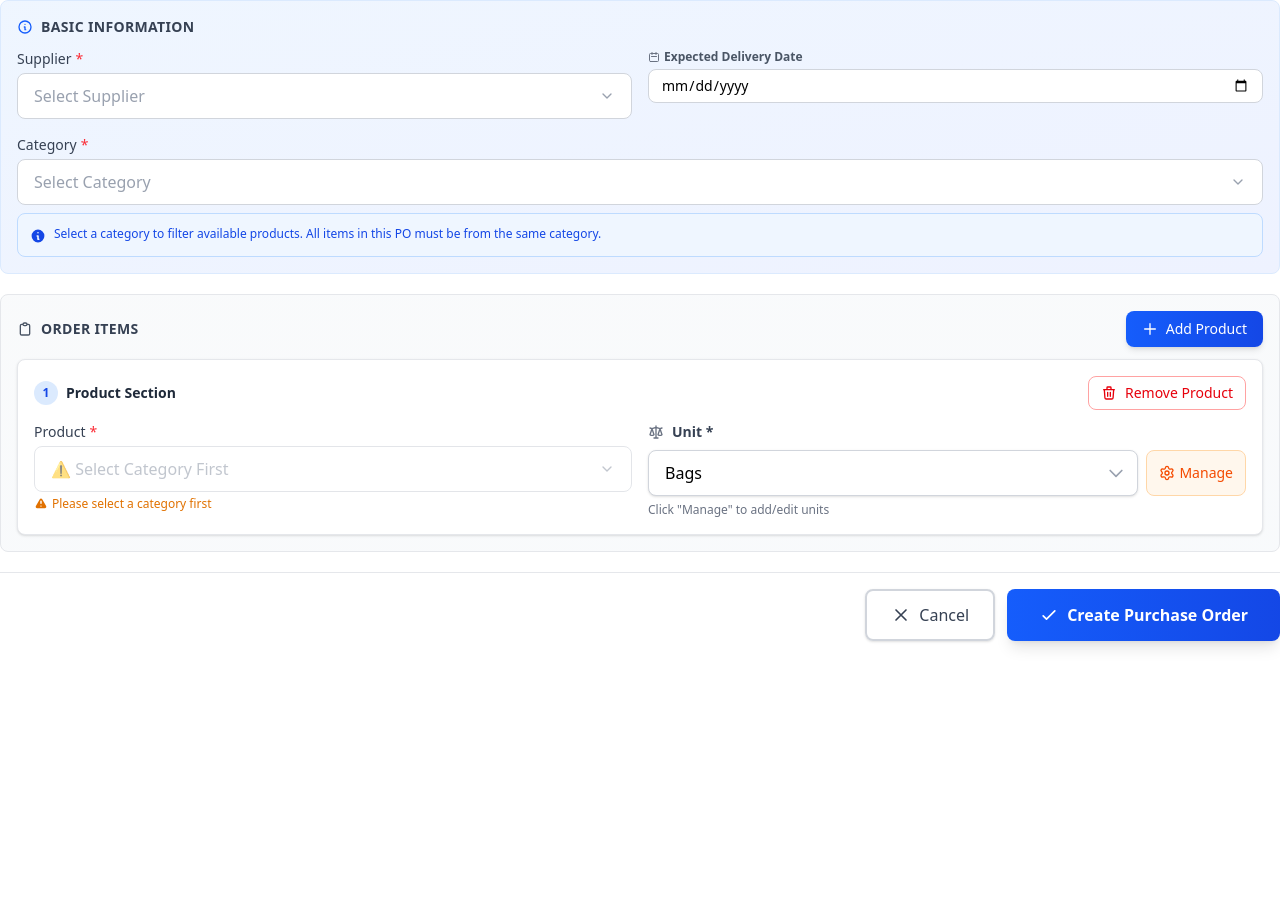
Purchase order category workflow › uses the complete master-data category form and selects the created category
This screenshot has width=1280, height=900.
Step 1. Click the button "Select Category" → (92, 182), box [17,159,1263,205]
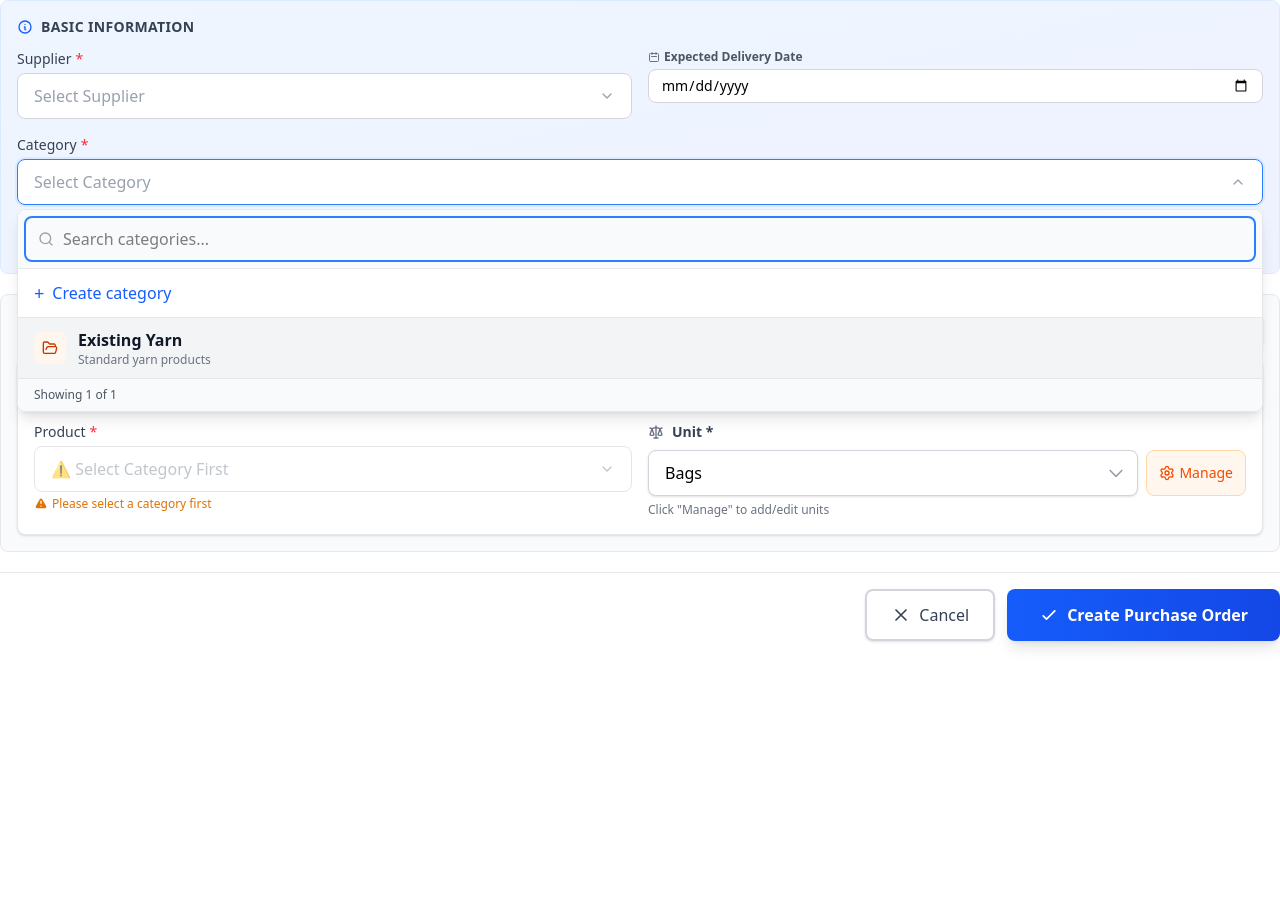
Step 2. Click the button "+ Create category" → (112, 293), box [18,269,1262,318]
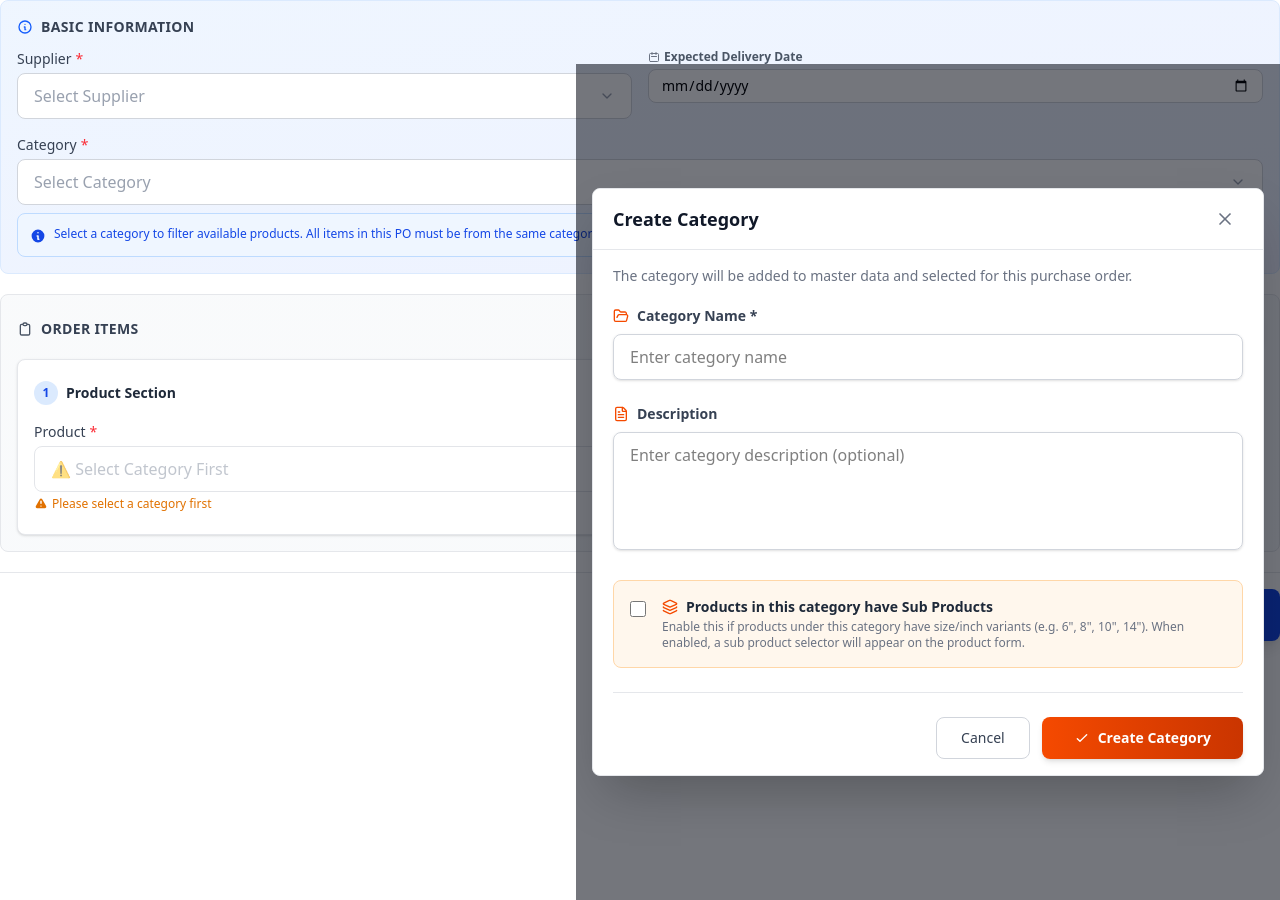
Expected: the dialog "Create Category" is shown, [592,188,1264,776]
Expected: the checkbox labelled "Products in this category have Sub Products" is shown, [630,601,646,617]
Step 3. Type "Sized Yarn" into the field with placeholder "Enter category name" → (928, 357), box [613,334,1243,380]
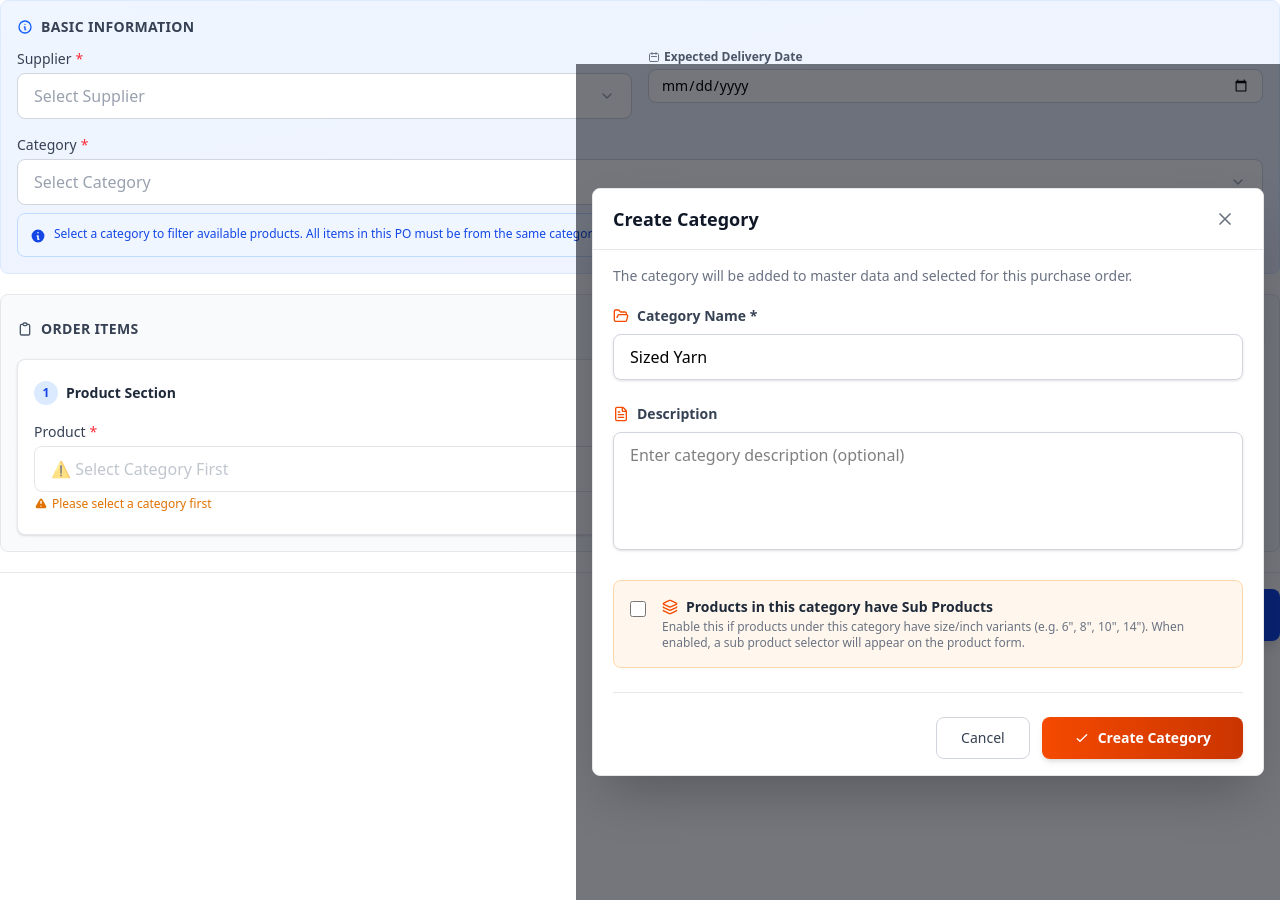
Step 4. Type "Products with size variants" into the text box with placeholder "Enter category description (optional)" → (928, 491), box [613,432,1243,550]
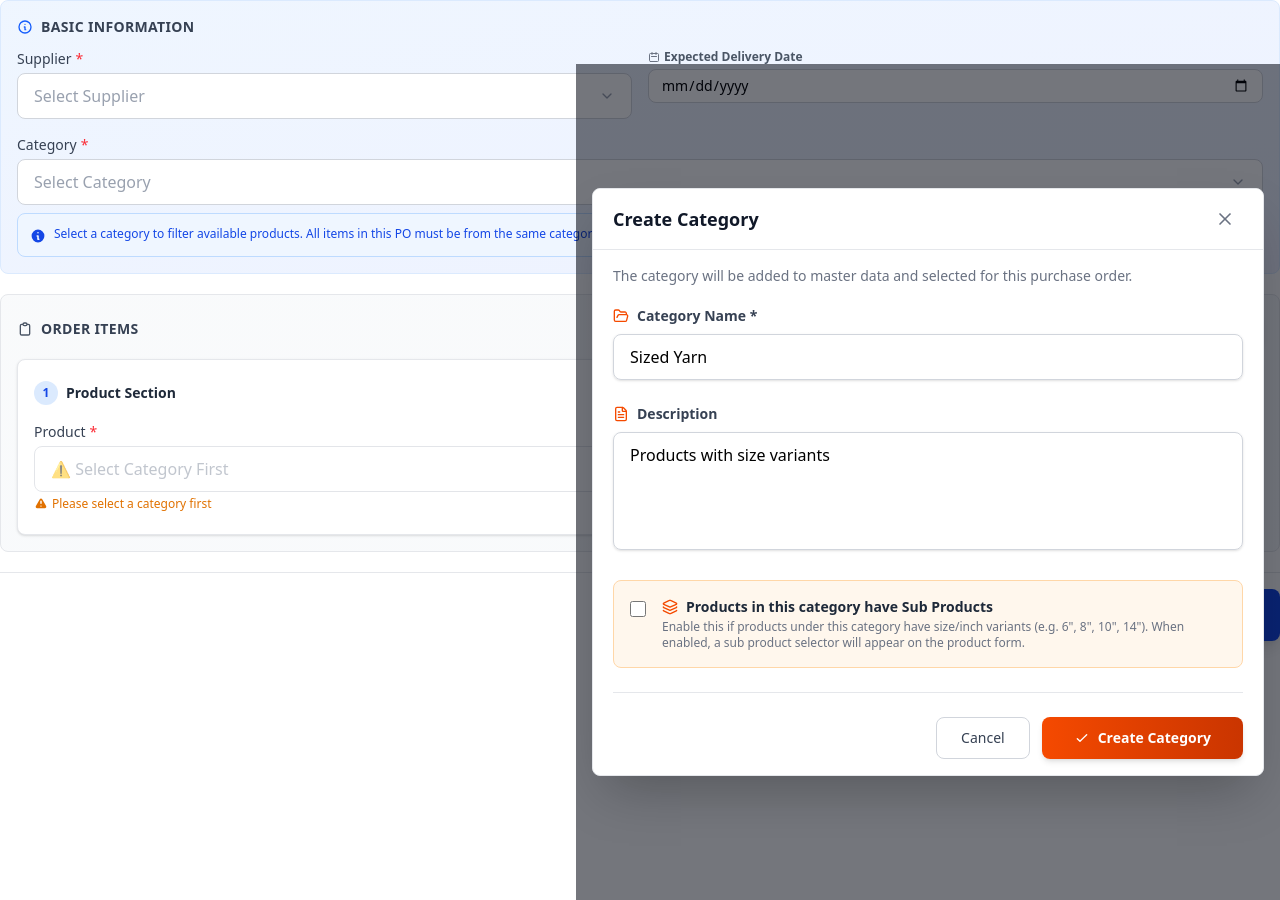
Step 5. Click the checkbox labelled "Products in this category have Sub Products" → (638, 609), box [630,601,646,617]
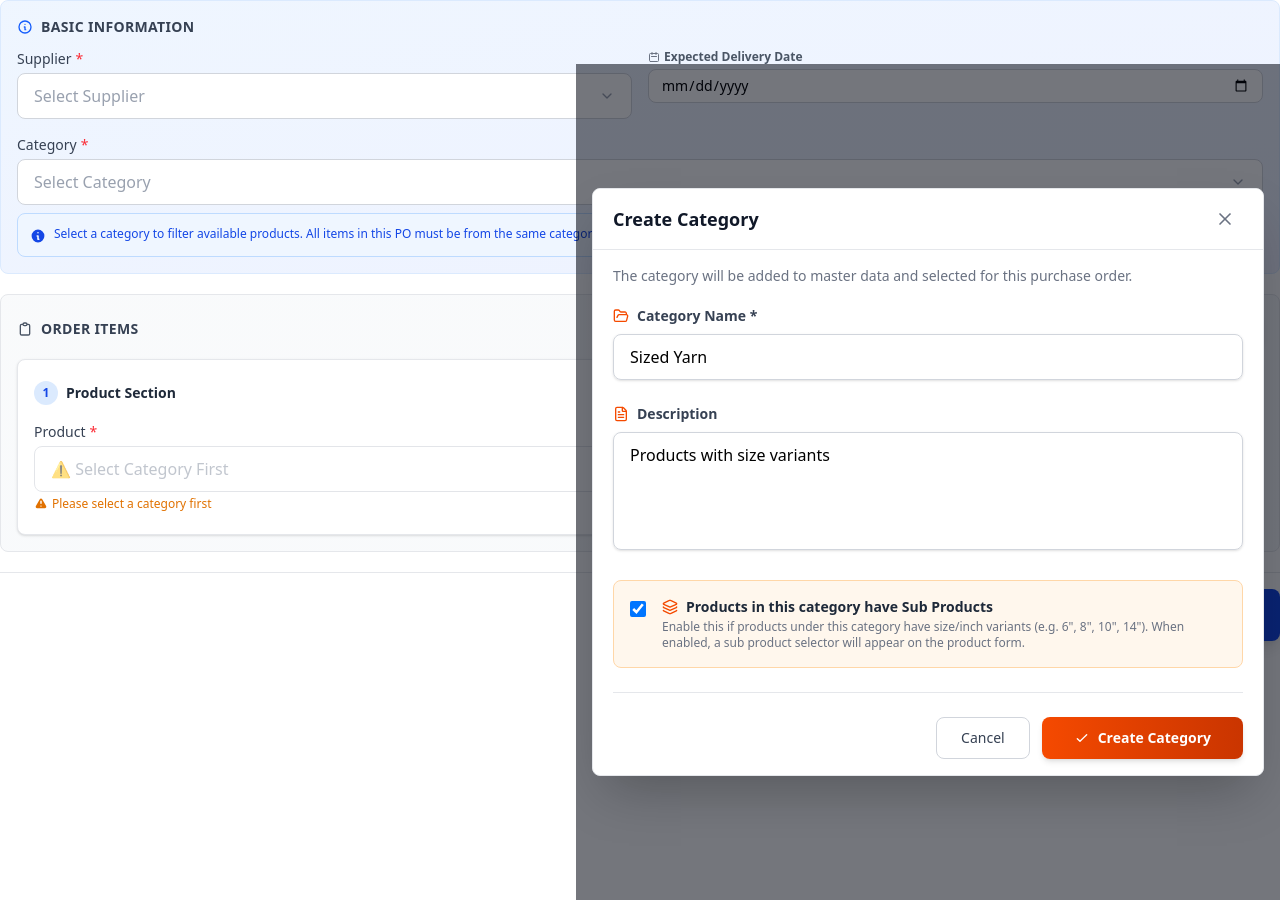
Step 6. Click the button "Create Category" → (1142, 738), box [1042,717,1243,759]
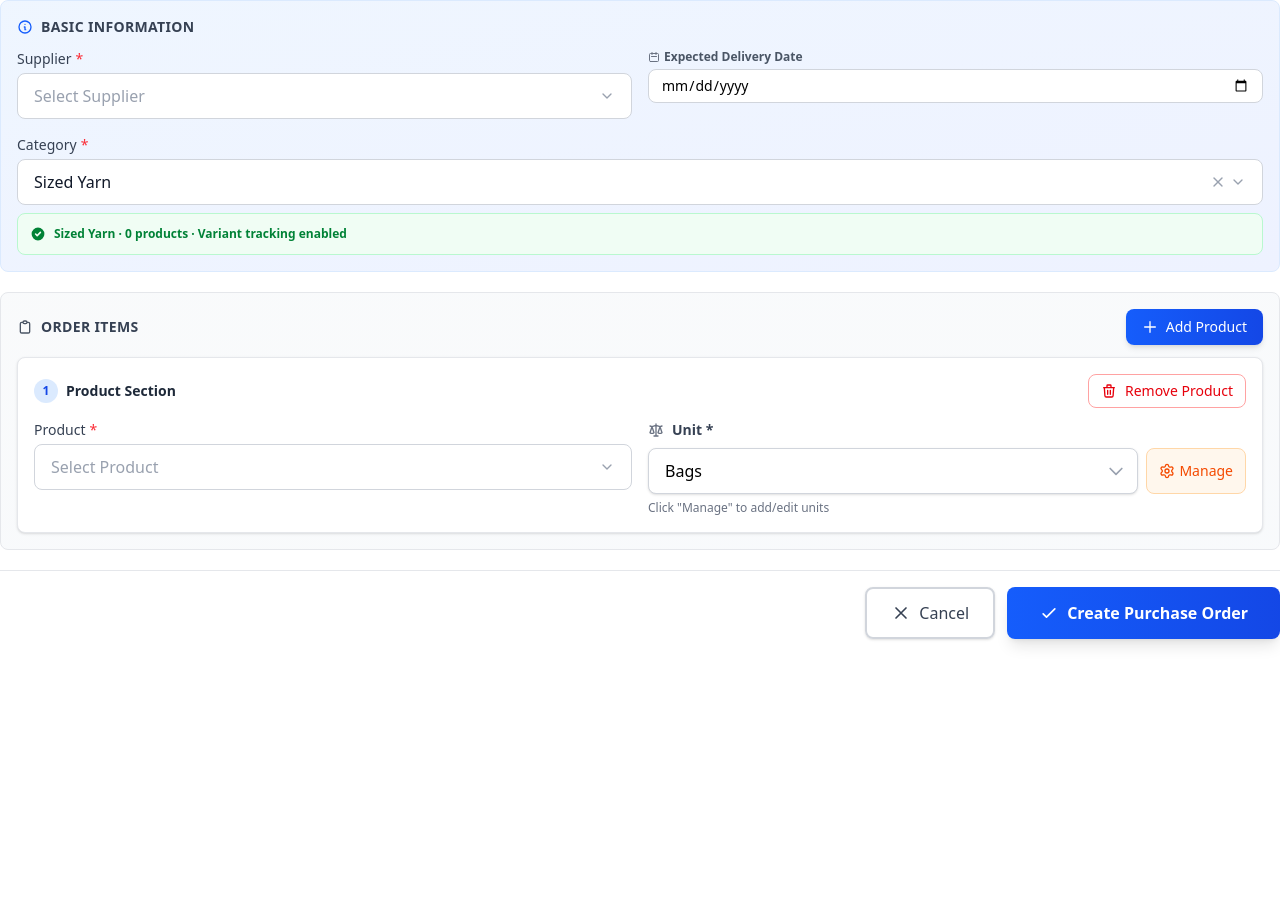
Expected: the heading "Create Category" is gone
Expected: the text "Sized Yarn" is shown, [34,171,111,193]
Expected: the text "Sized Yarn · 0 products · Variant tracking enabled" is shown, [54,226,347,242]
